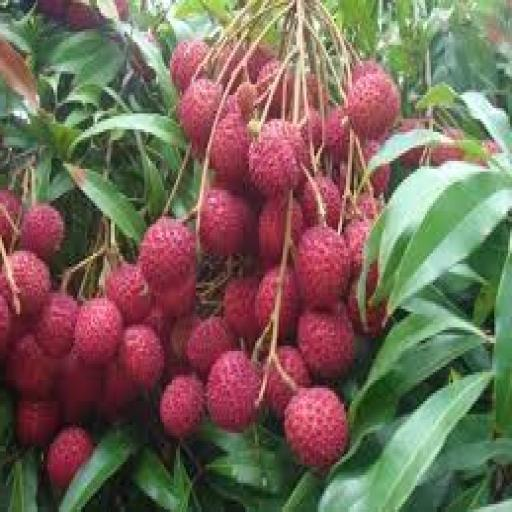lychee: (284, 388, 346, 469), (296, 227, 350, 308), (249, 119, 305, 197), (205, 352, 259, 432), (296, 304, 352, 380), (138, 217, 194, 290), (345, 72, 398, 139), (197, 188, 248, 255), (209, 109, 250, 190), (55, 352, 101, 424), (255, 267, 299, 340), (5, 336, 56, 398), (264, 346, 309, 416), (177, 80, 220, 153), (73, 299, 121, 364), (185, 317, 236, 377), (118, 325, 163, 390), (45, 428, 93, 488), (104, 264, 151, 324), (35, 293, 78, 358), (160, 375, 204, 438), (7, 251, 50, 314), (347, 267, 384, 337), (19, 204, 64, 261), (96, 359, 137, 419), (223, 278, 257, 343), (300, 177, 340, 229), (256, 59, 291, 118), (170, 40, 208, 92), (15, 402, 58, 446), (258, 198, 287, 263), (154, 272, 194, 319), (343, 220, 370, 277), (324, 106, 348, 166), (430, 130, 463, 166), (65, 0, 103, 31), (0, 191, 20, 248), (300, 109, 323, 150), (247, 45, 273, 81), (369, 164, 390, 195), (351, 61, 382, 81), (399, 148, 424, 168), (0, 296, 10, 343)
